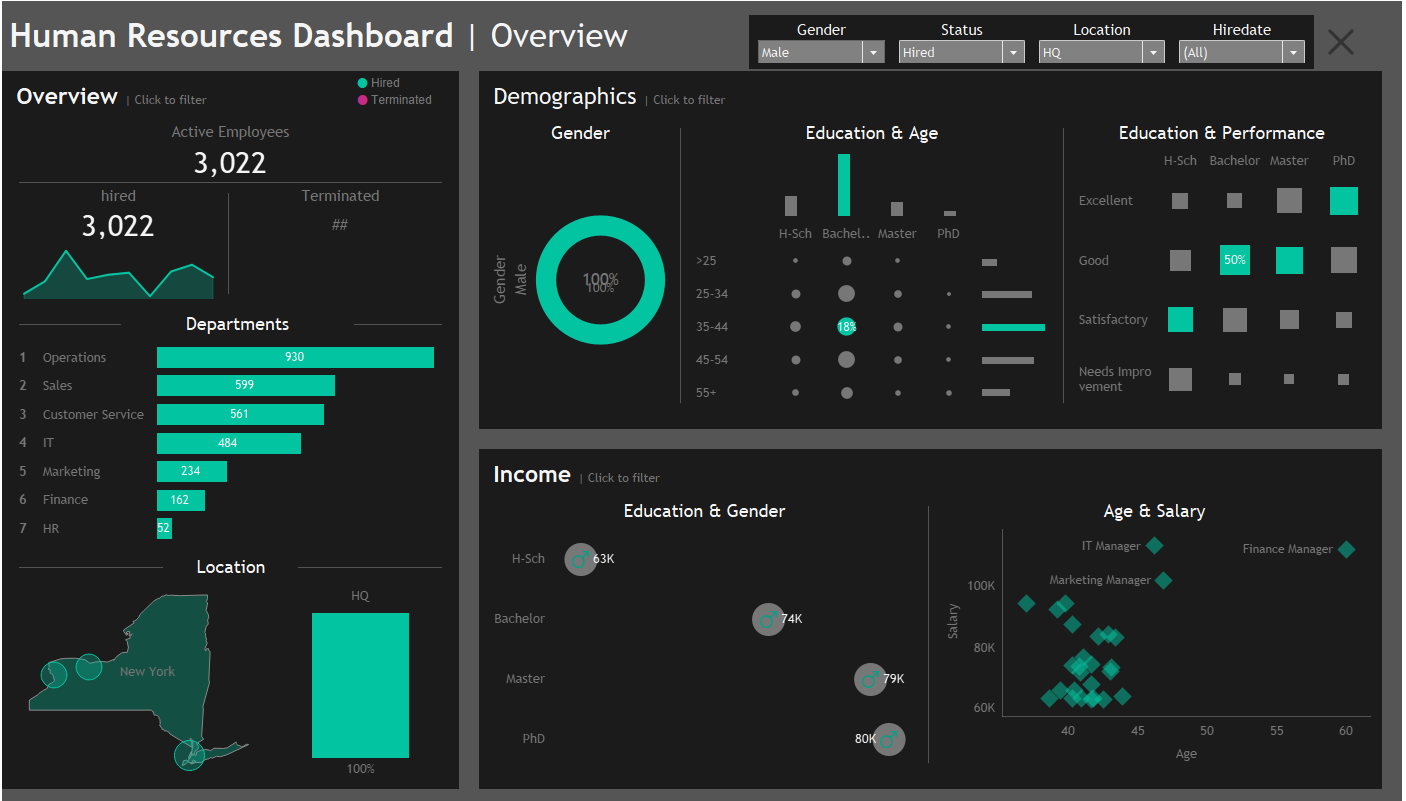

The page's visual inventory and layout, read from the dashboard file:
{"tool":"tableau","page":{"name":"HR Dashboard","canvas":[1400,800],"ordinal":0},"visuals":[{"type":"text","box":[110,0,693,70]},{"type":"blank","box":[803,0,577,70]},{"type":"filter","title":"Gender vs Education level","param":"[federated.1w2r0qb0wcpkq01fmew5211hzvvi].[none:Gender:nk]","box":[749,16,141,50]},{"type":"filter","title":"Gender vs Education level","param":"[federated.1w2r0qb0wcpkq01fmew5211hzvvi].[none:Calculation_566890662182375424:nk","box":[890,16,140,50]},{"type":"filter","title":"Gender vs Education level","param":"[federated.1w2r0qb0wcpkq01fmew5211hzvvi].[none:Calculation_188588274449854466:nk","box":[1030,16,140,50]},{"type":"filter","title":"Gender vs Education level","param":"[federated.1w2r0qb0wcpkq01fmew5211hzvvi].[yr:Hiredate:ok]","box":[1170,16,140,50]},{"type":"image","param":"Image/Logo.png","box":[20,20,70,55]},{"type":"dashboard-object","box":[1320,22,39,38]},{"type":"text","box":[352,75,91,34]},{"type":"text","box":[117,77,333,35]},{"type":"text","box":[484,77,889,35]},{"type":"dashboard-object","box":[30,85,50,50]},{"type":"text","box":[117,112,333,32]},{"type":"text","box":[484,117,189,29]},{"type":"blank","box":[678,117,1,295]},{"type":"text","box":[684,117,372,29]},{"type":"blank","box":[1061,117,1,295]},{"type":"text","box":[1067,117,306,29]},{"type":"dashboard-object","box":[30,135,50,50]},{"type":"worksheet","title":"BAN Active","mark":"Text","box":[117,144,333,37]},{"type":"worksheet","title":"Gender","mark":"Pie","rows":["Gender"],"cols":["Calculation_1471832709374812161","Calculation_1471832709374812161"],"box":[484,146,189,266]},{"type":"worksheet","title":"Education Levels","mark":"Bar","rows":["Calculation_1857453410222510080"],"cols":["Education Level"],"box":[684,146,372,73]},{"type":"worksheet","title":"Education vs Performance","mark":"Square","rows":["Performance Rating"],"cols":["Education Level"],"box":[1067,146,306,266]},{"type":"blank","box":[117,181,333,1]},{"type":"text","box":[117,182,165,26]},{"type":"blank","box":[282,182,1,121]},{"type":"text","box":[283,182,167,26]},{"type":"worksheet","title":"BAN Hired","mark":"Text","box":[117,208,165,34]},{"type":"worksheet","title":"BAN Terminated","mark":"Text","box":[283,208,167,32]},{"type":"worksheet","title":"Age vs Education","mark":"Circle","rows":["Calculation_1471832709377675267"],"cols":["Education Level"],"box":[684,219,292,193]},{"type":"worksheet","title":"Age Groups","mark":"Bar","rows":["Calculation_1471832709377675267"],"cols":["Calculation_1857453410222510080"],"box":[976,219,74,193]},{"type":"worksheet","title":"Terminated by year","mark":"Line","rows":["Calculation_1857453410223058945","Calculation_1857453410223058945"],"cols":["Termdate"],"box":[283,240,167,63]},{"type":"worksheet","title":"Hired by year","mark":"Line","rows":["Calculation_1857453410222510080","Calculation_1857453410222510080"],"cols":["Hiredate"],"box":[117,242,165,61]},{"type":"blank","box":[127,308,102,30]},{"type":"text","box":[229,308,123,30]},{"type":"blank","box":[352,308,88,30]},{"type":"worksheet","title":"Department","mark":"Bar","rows":["Calculation_188588274448809985","Department"],"cols":["Calculation_1857453410222510080"],"box":[117,338,333,208]},{"type":"text","box":[484,455,889,35]},{"type":"text","box":[484,495,437,29]},{"type":"blank","box":[926,495,1,277]},{"type":"text","box":[932,495,441,29]},{"type":"worksheet","title":"Gender vs Education level","mark":"Square","rows":["Education Level"],"cols":["Salary","Salary"],"box":[484,524,437,248]},{"type":"worksheet","title":"Age vs Salary","mark":"Shape","rows":["Salary"],"cols":["Calculation_1471832709376806914"],"box":[932,524,441,248]},{"type":"blank","box":[127,551,107,30]},{"type":"text","box":[234,551,99,30]},{"type":"blank","box":[333,551,107,30]},{"type":"worksheet","title":"Map States","mark":"Automatic","box":[117,581,260,200]},{"type":"worksheet","title":"Location","mark":"Bar","rows":["Calculation_1857453410222510080"],"cols":["Calculation_188588274449854466","Calculation1"],"box":[377,581,73,200]}]}

Visuals, with their boxes in screenshot pixels (x1, y1, x2, y2), scaled from the page's 1400x800 canvas onto the 1406x801 screenshot:
text: <region>110, 0, 806, 70</region>
blank: <region>806, 0, 1386, 70</region>
"Gender vs Education level" filter: <region>752, 16, 894, 66</region>
"Gender vs Education level" filter: <region>894, 16, 1034, 66</region>
"Gender vs Education level" filter: <region>1034, 16, 1175, 66</region>
"Gender vs Education level" filter: <region>1175, 16, 1316, 66</region>
image: <region>20, 20, 90, 75</region>
dashboard-object: <region>1326, 22, 1365, 60</region>
text: <region>354, 75, 445, 109</region>
text: <region>118, 77, 452, 112</region>
text: <region>486, 77, 1379, 112</region>
dashboard-object: <region>30, 85, 80, 135</region>
text: <region>118, 112, 452, 144</region>
text: <region>486, 117, 676, 146</region>
blank: <region>681, 117, 682, 413</region>
text: <region>687, 117, 1061, 146</region>
blank: <region>1066, 117, 1067, 413</region>
text: <region>1072, 117, 1379, 146</region>
dashboard-object: <region>30, 135, 80, 185</region>
"BAN Active" worksheet (Text marks): <region>118, 144, 452, 181</region>
"Gender" worksheet (Pie marks): <region>486, 146, 676, 413</region>
"Education Levels" worksheet (Bar marks): <region>687, 146, 1061, 219</region>
"Education vs Performance" worksheet (Square marks): <region>1072, 146, 1379, 413</region>
blank: <region>118, 181, 452, 182</region>
text: <region>118, 182, 283, 208</region>
blank: <region>283, 182, 284, 303</region>
text: <region>284, 182, 452, 208</region>
"BAN Hired" worksheet (Text marks): <region>118, 208, 283, 242</region>
"BAN Terminated" worksheet (Text marks): <region>284, 208, 452, 240</region>
"Age vs Education" worksheet (Circle marks): <region>687, 219, 980, 413</region>
"Age Groups" worksheet (Bar marks): <region>980, 219, 1054, 413</region>
"Terminated by year" worksheet (Line marks): <region>284, 240, 452, 303</region>
"Hired by year" worksheet (Line marks): <region>118, 242, 283, 303</region>
blank: <region>128, 308, 230, 338</region>
text: <region>230, 308, 354, 338</region>
blank: <region>354, 308, 442, 338</region>
"Department" worksheet (Bar marks): <region>118, 338, 452, 547</region>
text: <region>486, 456, 1379, 491</region>
text: <region>486, 496, 925, 525</region>
blank: <region>930, 496, 931, 773</region>
text: <region>936, 496, 1379, 525</region>
"Gender vs Education level" worksheet (Square marks): <region>486, 525, 925, 773</region>
"Age vs Salary" worksheet (Shape marks): <region>936, 525, 1379, 773</region>
blank: <region>128, 552, 235, 582</region>
text: <region>235, 552, 334, 582</region>
blank: <region>334, 552, 442, 582</region>
"Map States" worksheet: <region>118, 582, 379, 782</region>
"Location" worksheet (Bar marks): <region>379, 582, 452, 782</region>
